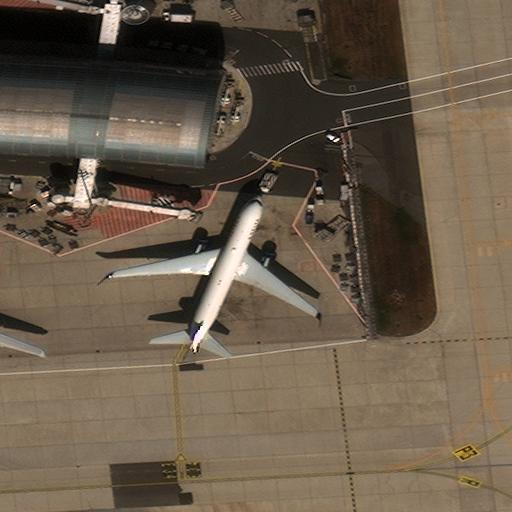Large Civil Transport: (108, 197, 320, 351)
